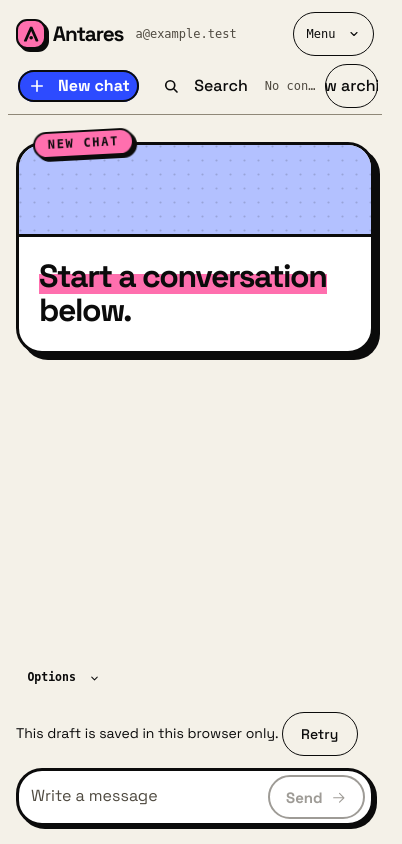
Test: phone layout toggles › folds the search box behind a toggle and keeps the form in the document
Click the button "Search". click: [205, 86]
box: [152, 64, 258, 108]
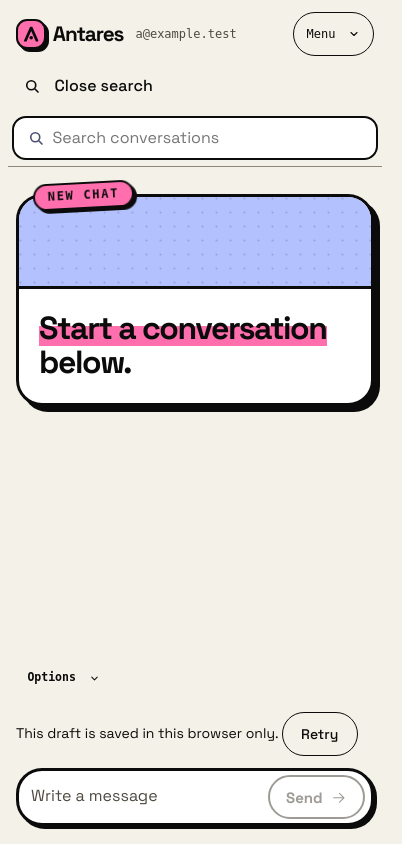
Expected: the button "Close search" is expanded, [12, 64, 163, 108]
